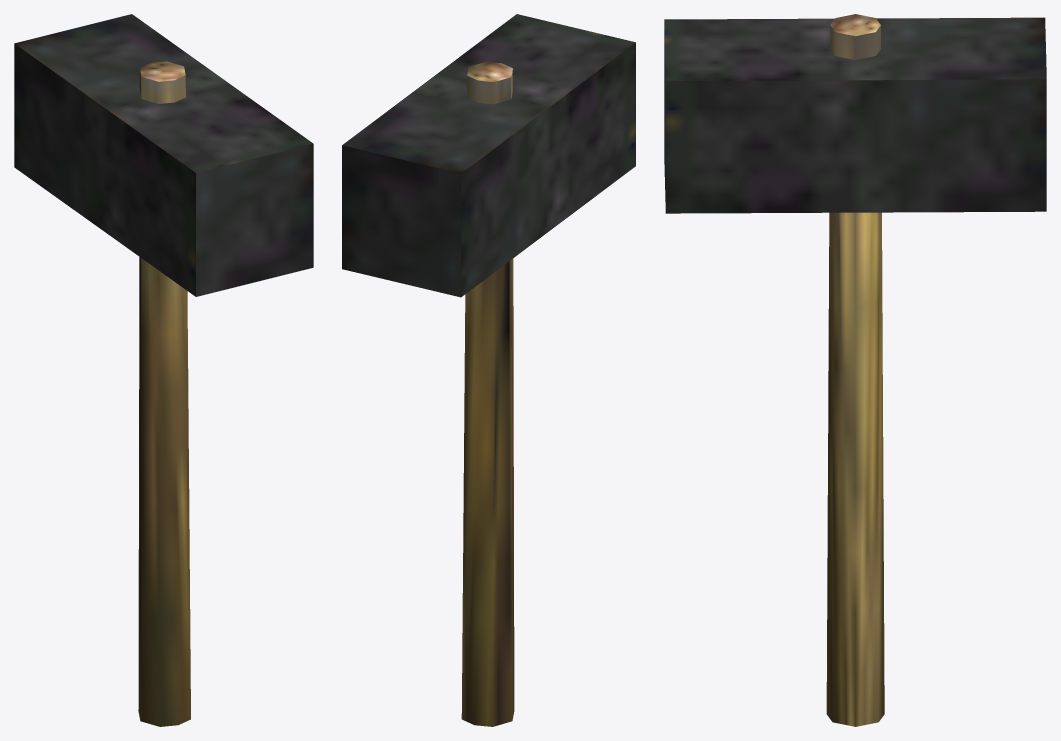
The model's file is hammer.glb.
3 renders of one model, left to right at view 1: azimuth 30°, elevation 25°; view 2: azimuth 150°, elevation 25°; view 3: azimuth 270°, elevation 25°, orthographic. The views are drawn at different scales.
Parts seen in each view (by area): view 1: WeaponR; view 2: WeaponR; view 3: WeaponR.
Boxes of the visible parts, box(x1,y1,x2,y2) form: WeaponR: box(14, 14, 313, 726); WeaponR: box(342, 14, 635, 726); WeaponR: box(664, 14, 1046, 726).
Size of the model in its own units: 0.1118 by 0.5646 by 0.2845.
1 material, 1 textured.
